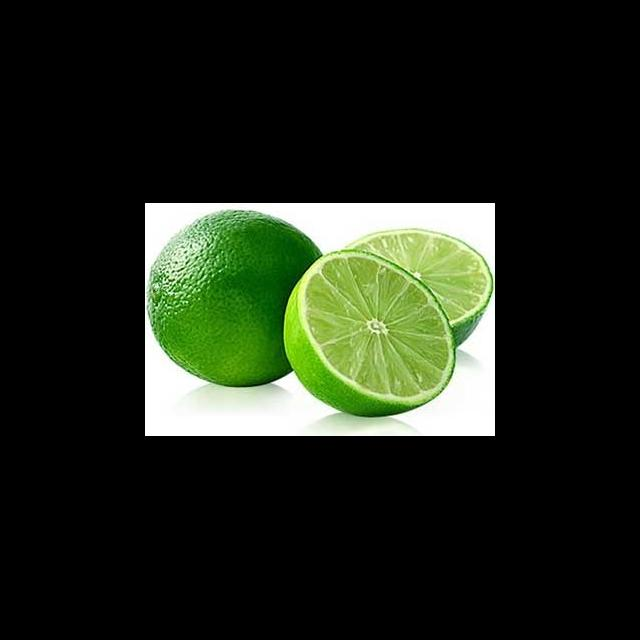lime: (146, 208, 336, 391)
